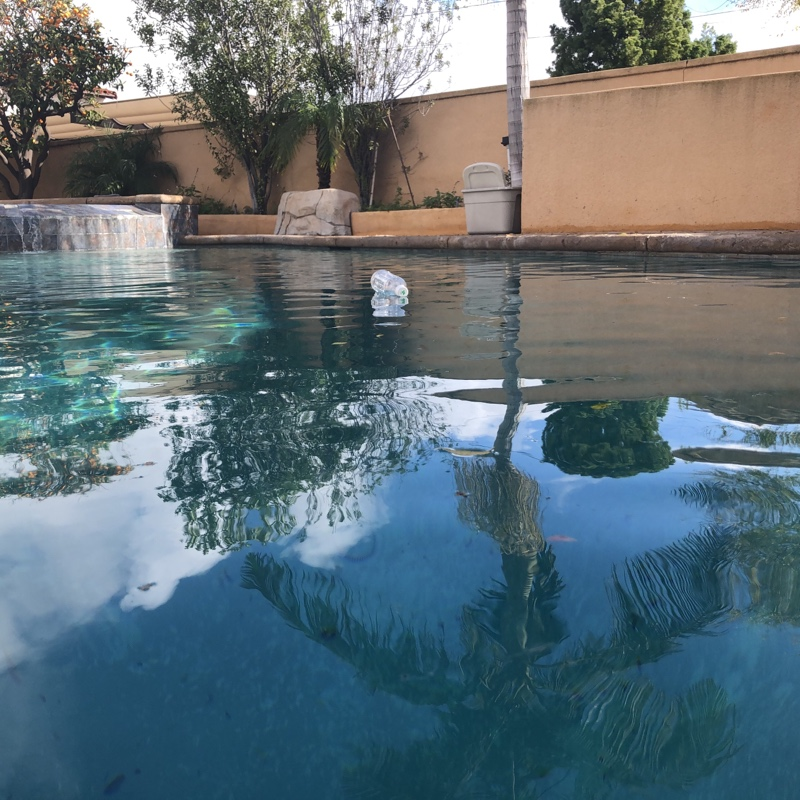Plastic Bottle: (369, 268, 410, 300)
